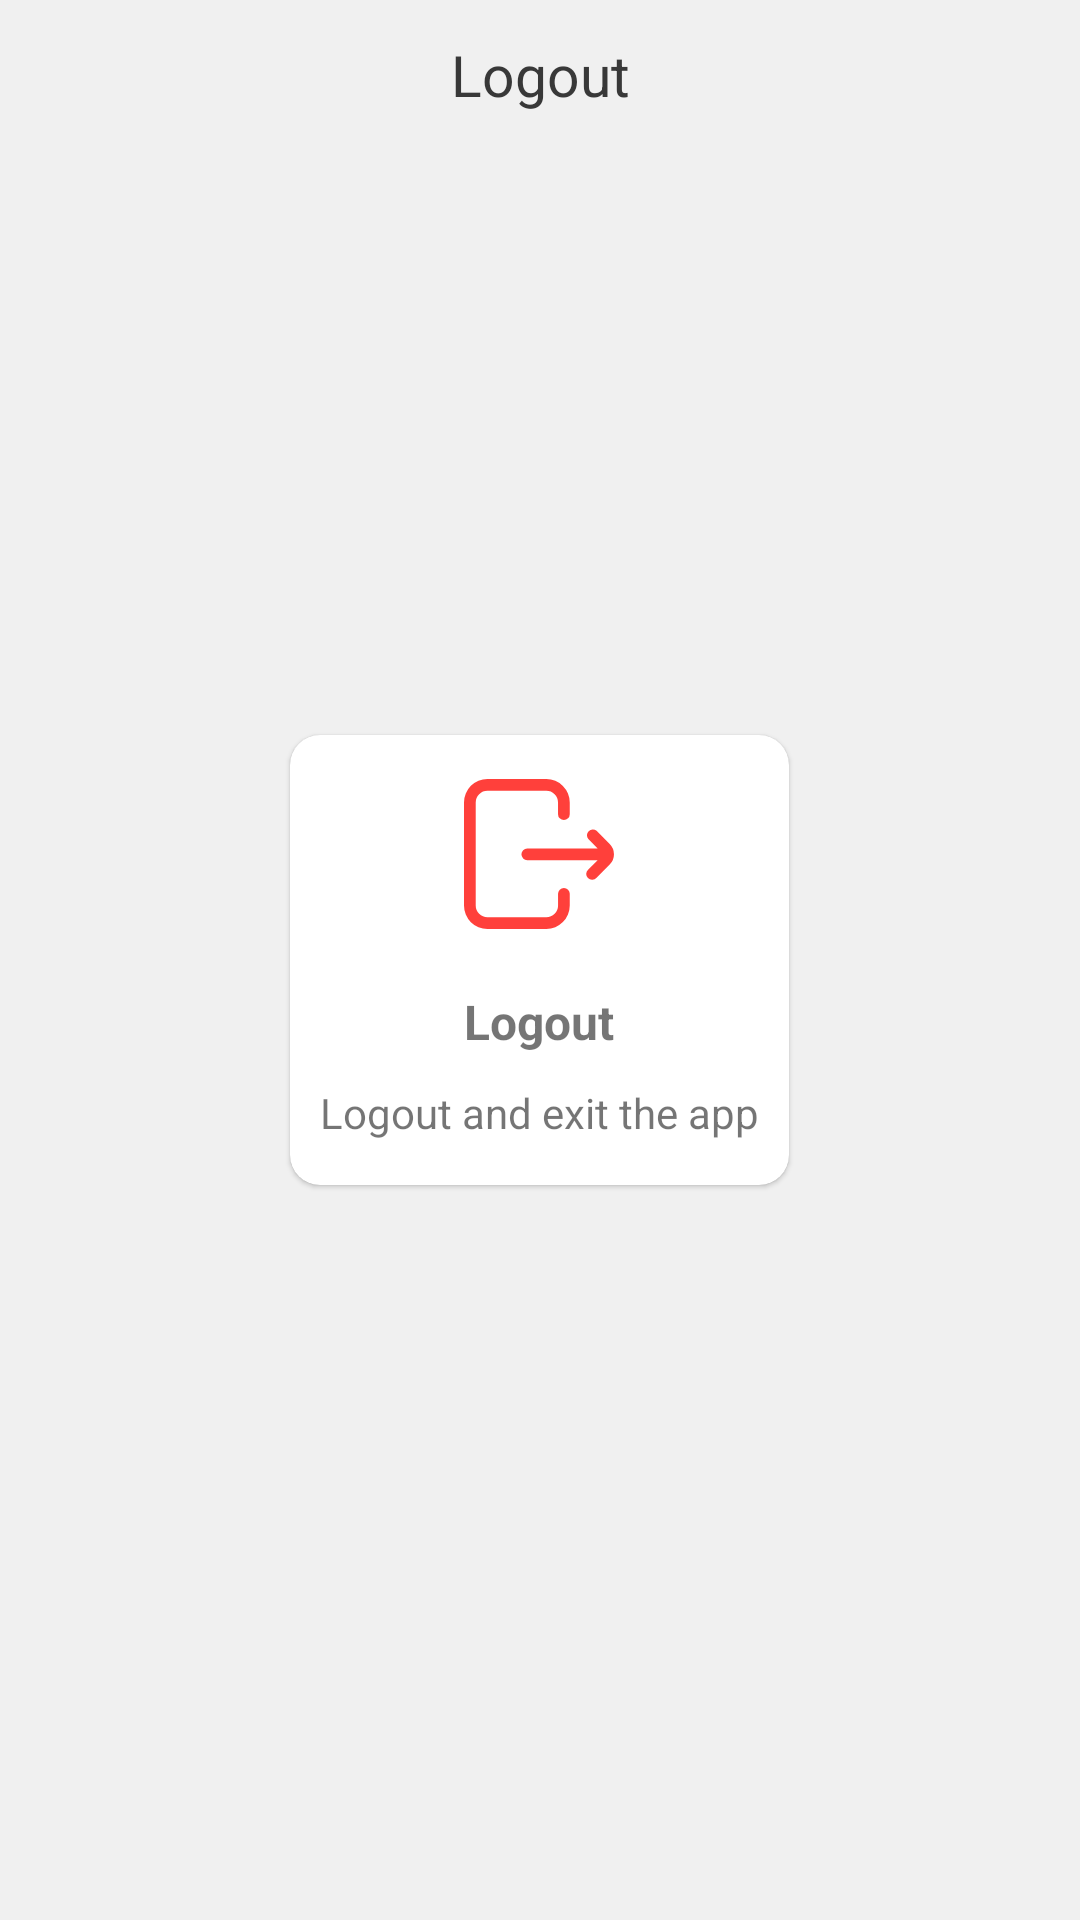

Locate icon controls on the screen. Image size 1080 × 1920, boxes as (x1, y1, x2, y2).
exit: (464, 779, 614, 929)
